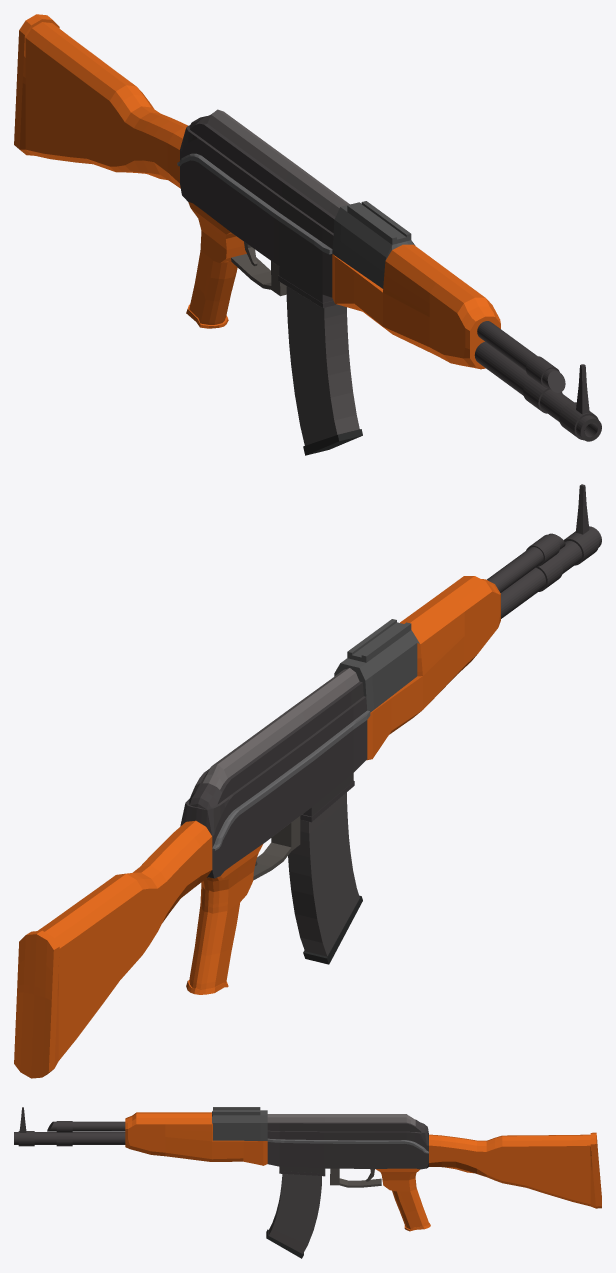
3 views of the same model, one above another, from view 1: azimuth 30°, elevation 25°; view 2: azimuth 150°, elevation 25°; view 3: azimuth 270°, elevation 25° (orthographic). The views are drawn at different scales.
Visible parts, largest first — view 1: AK47; view 2: AK47; view 3: AK47.
Boxes of the visible parts, <box> form: AK47: <box>14,14,601,455</box>; AK47: <box>14,484,601,1078</box>; AK47: <box>14,1107,601,1258</box>.
Size of the model in its own units: 3.99 by 24.23 by 87.14.
